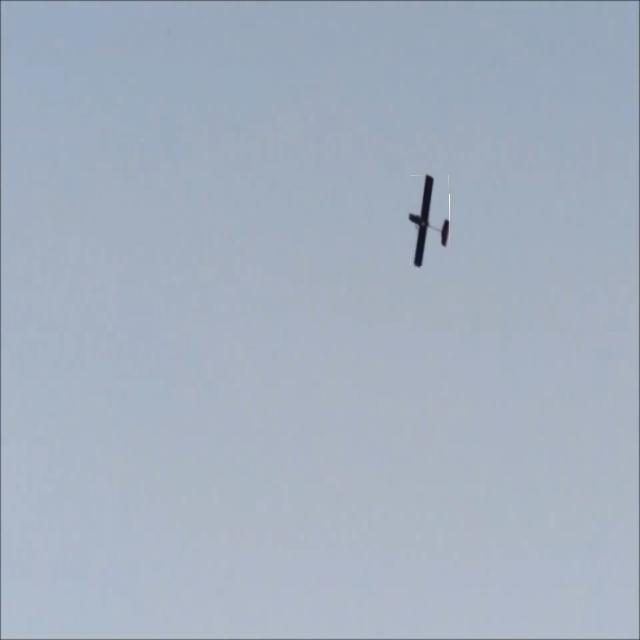plane: (407, 172, 450, 267)
